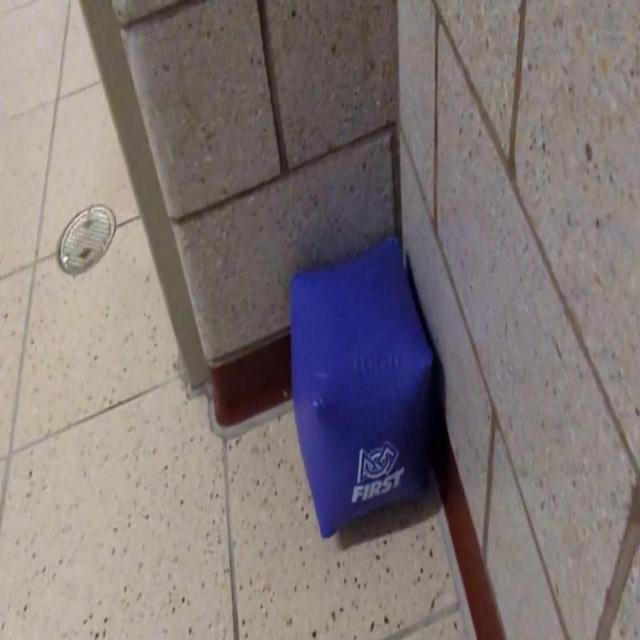frc_cube: (289, 244, 428, 532)
